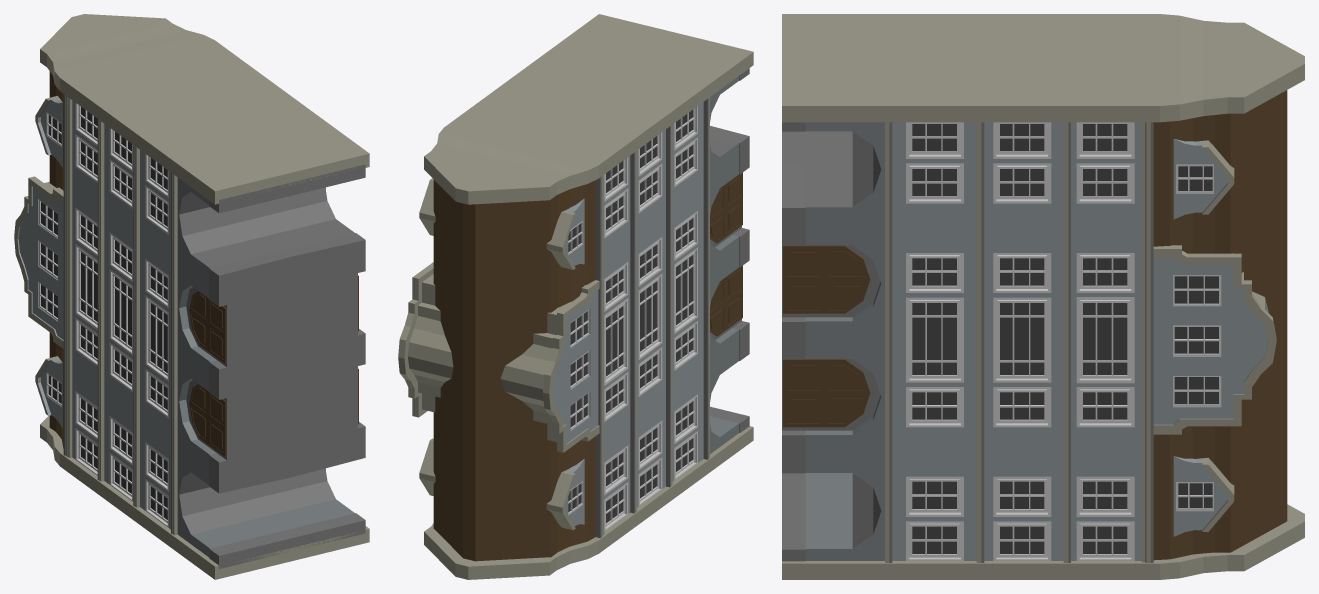
File: town.glb
3 views of the same model, side by side, from view 1: azimuth 30°, elevation 25°; view 2: azimuth 150°, elevation 25°; view 3: azimuth 270°, elevation 25° (orthographic). The views are drawn at different scales.
Parts seen in each view (by area): view 1: Building2_Large; view 2: Building2_Large; view 3: Building2_Large.
Boxes of the visible parts, left/top/right/bottom form: Building2_Large: left=14, top=14, right=369, bottom=579; Building2_Large: left=398, top=14, right=753, bottom=579; Building2_Large: left=782, top=14, right=1304, bottom=579.
Bounding box in the file's own units: 5 × 12 × 12.
